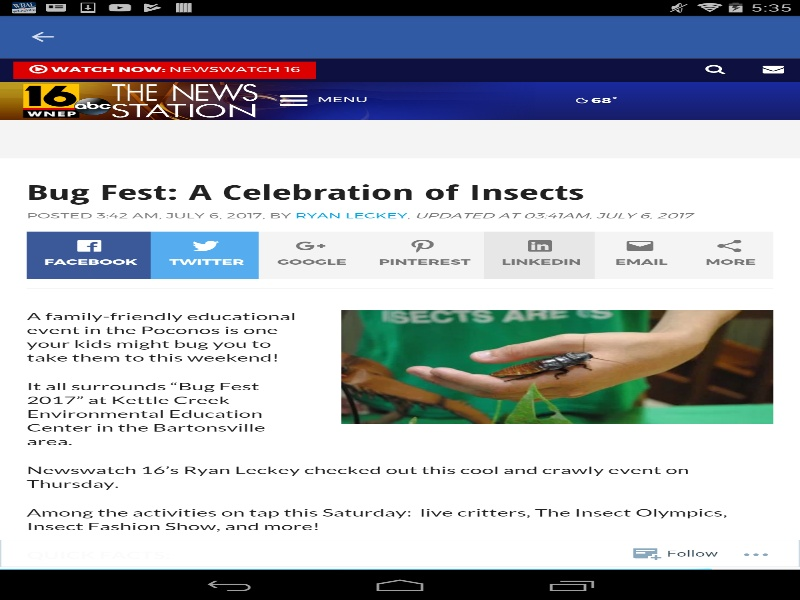Button: (522, 67, 668, 90), (266, 85, 381, 114), (689, 61, 742, 79), (764, 67, 786, 90)
Input: (13, 67, 517, 90)
